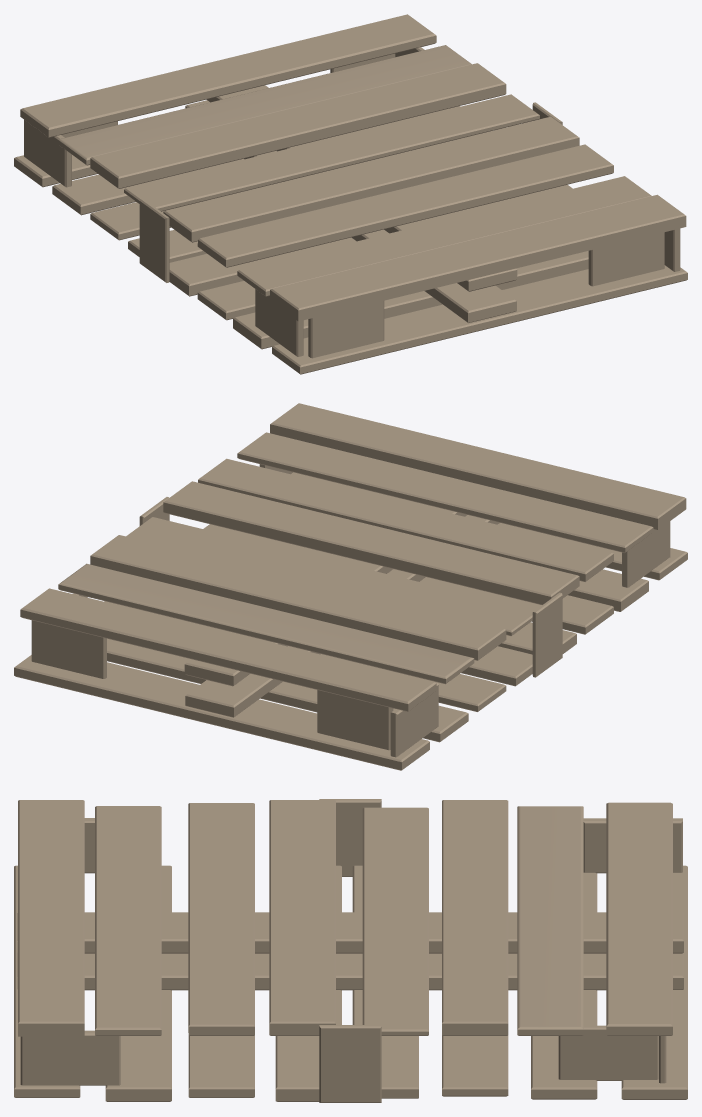
Rendered from Wooden_Palette_Bevel.fbx.
3 views of the same model, one above another, from view 1: azimuth 30°, elevation 25°; view 2: azimuth 150°, elevation 25°; view 3: azimuth 270°, elevation 25° (orthographic). The views are drawn at different scales.
Visible parts, largest first — view 1: pCube174; view 2: pCube174; view 3: pCube174.
Boxes of the visible parts, <box> form: pCube174: <box>14,14,687,374</box>; pCube174: <box>14,403,687,770</box>; pCube174: <box>14,799,687,1102</box>.
Bounding box in the file's own units: 0.801 × 0.1313 × 0.9981.
